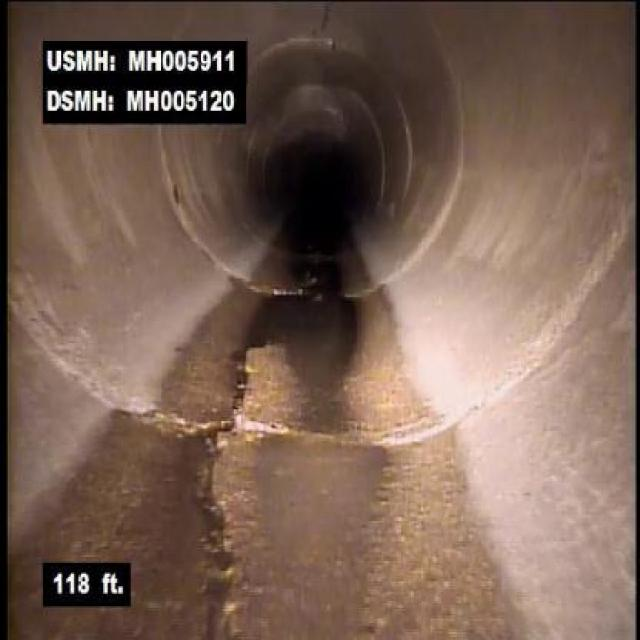Buckling: (220, 308, 274, 420)
Crack: (189, 428, 243, 629)
